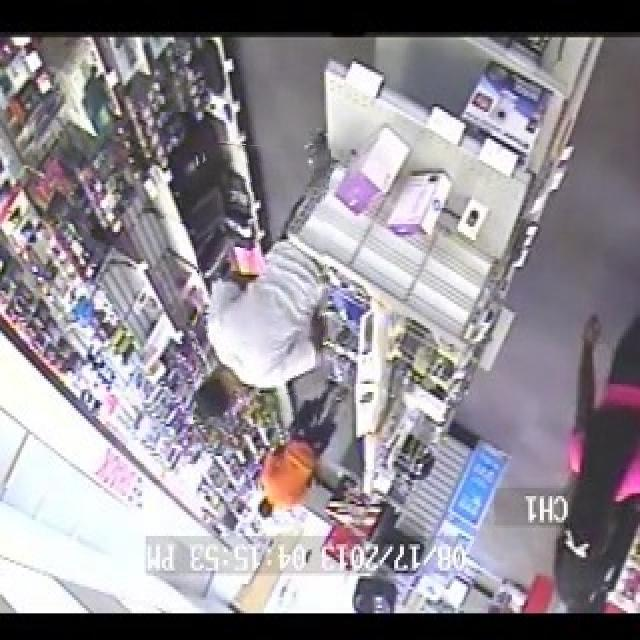normal: (197, 145, 327, 429)
